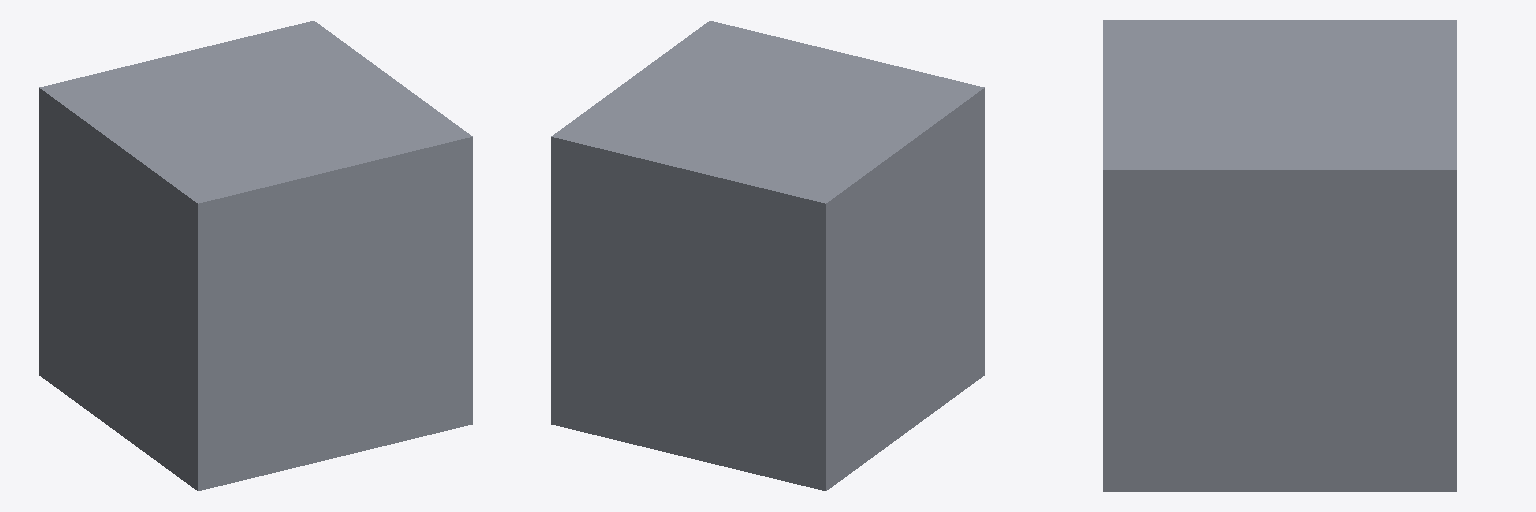
The robot description file, URDF, robot "weld_cube":
<?xml version="1.0"?>
<!--
  weld_cube - a 1 m cube work piece for the Factory OS sample cell "cube_weld_2r".
  Base centred on the link origin, top face at z = 1.0 m (metres, Z up). The mesh is
  used for both visual and collision so the planner's converter can voxelise it.
-->
<robot name="weld_cube">
  <link name="World">
    <visual>
      <origin xyz="0 0 0" rpy="0 0 0"/>
      <geometry><mesh filename="meshes/weld_cube.obj" scale="1 1 1"/></geometry>
      <material name="cube_steel"><color rgba="0.62 0.64 0.68 1.0"/></material>
    </visual>
    <collision>
      <origin xyz="0 0 0" rpy="0 0 0"/>
      <geometry><mesh filename="meshes/weld_cube.obj" scale="1 1 1"/></geometry>
    </collision>
  </link>
</robot>

--- Render facts (derived) ---
3 views of the same robot in one strip: view 1: azimuth 30°, elevation 25°; view 2: azimuth 150°, elevation 25°; view 3: azimuth 270°, elevation 25° (orthographic).
Model weld_cube with 1 links and 0 joints (none), rooted at World, posed every joint at zero.
Links seen in each view (by area): view 1: World; view 2: World; view 3: World.
Boxes of the visible links, bbox=[...] form: World: bbox=[39, 21, 472, 490]; World: bbox=[551, 21, 984, 490]; World: bbox=[1103, 20, 1456, 491].
Bounding box of the posed robot: 1 × 1 × 1 m (x, y, z).
1 mesh visuals loaded from 1 distinct referenced files (1 OBJ).
